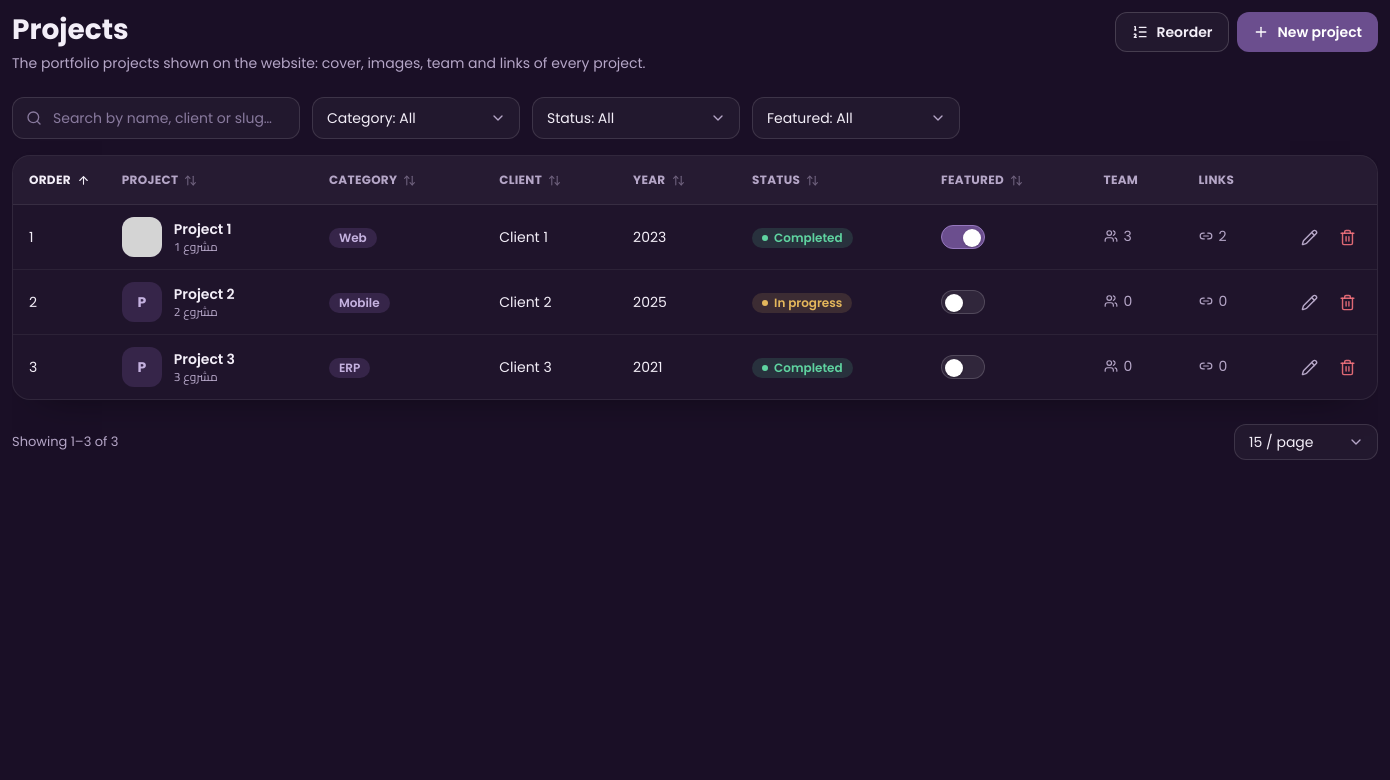
Test: ProjectList › featured toggle › shows an error toast when the update fails
Check: the text "Project 1" is shown, box [174,219,232,239]
Click the switch named "Featured: Project 1": (963, 237) [941,225,985,249]
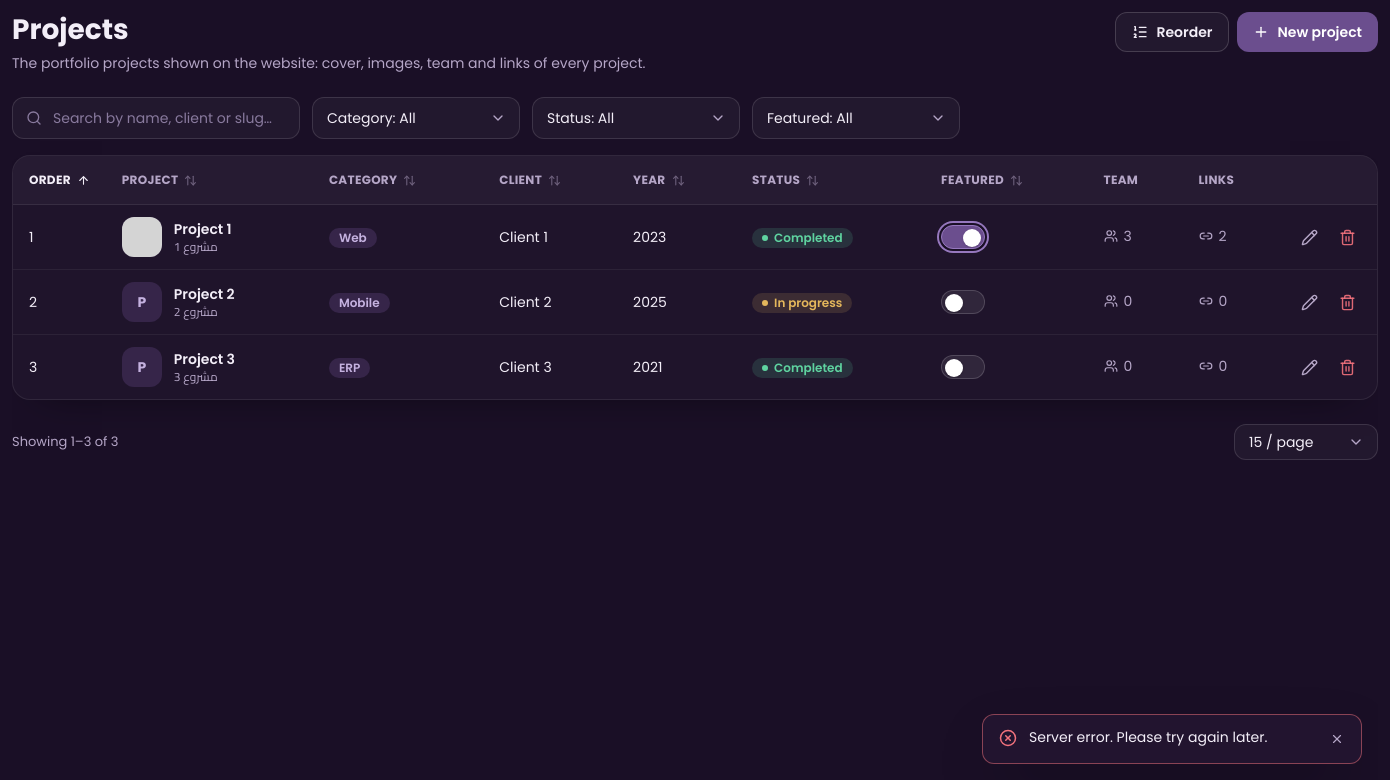
Check: the text "Server error. Please try again later." is shown, box [1029,727,1267,747]
